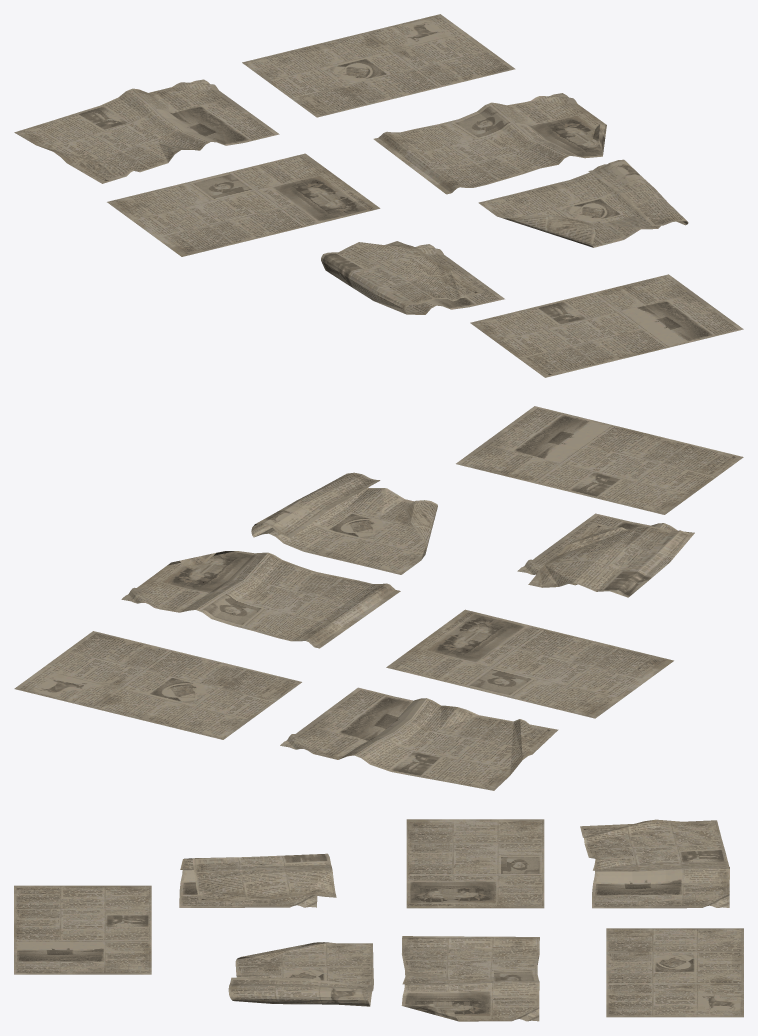
File: newspaper.glb
3 renders of one model, top to bottom at view 1: azimuth 30°, elevation 25°; view 2: azimuth 150°, elevation 25°; view 3: azimuth 270°, elevation 25°, orthographic. The views are drawn at different scales.
Visible parts, largest first — view 1: 1234_SM_Newspaper02_mo, 1234_SM_Newspaper01_mo, 1234_SM_Newspaper03_mo, 1234_SM_Newspaper04_mo, 1234_SM_Newspaper06_mo, 1234_SM_Newspaper05_mo, 1234_SM_Newspaper07_mo; view 2: 1234_SM_Newspaper03_mo, 1234_SM_Newspaper02_mo, 1234_SM_Newspaper01_mo, 1234_SM_Newspaper04_mo, 1234_SM_Newspaper06_mo, 1234_SM_Newspaper05_mo, 1234_SM_Newspaper07_mo; view 3: 1234_SM_Newspaper03_mo, 1234_SM_Newspaper02_mo, 1234_SM_Newspaper01_mo, 1234_SM_Newspaper04_mo, 1234_SM_Newspaper06_mo, 1234_SM_Newspaper05_mo, 1234_SM_Newspaper07_mo.
Boxes of the visible parts, x1,y1,x2,y2 form: 1234_SM_Newspaper02_mo: (242, 14, 515, 117); 1234_SM_Newspaper01_mo: (470, 274, 743, 377); 1234_SM_Newspaper03_mo: (107, 153, 380, 256); 1234_SM_Newspaper04_mo: (14, 79, 279, 183); 1234_SM_Newspaper06_mo: (373, 93, 606, 194); 1234_SM_Newspaper05_mo: (478, 159, 688, 247); 1234_SM_Newspaper07_mo: (321, 241, 504, 314); 1234_SM_Newspaper03_mo: (386, 609, 673, 718); 1234_SM_Newspaper02_mo: (14, 631, 301, 739); 1234_SM_Newspaper01_mo: (456, 406, 743, 514); 1234_SM_Newspaper04_mo: (280, 687, 558, 790); 1234_SM_Newspaper06_mo: (121, 551, 400, 648); 1234_SM_Newspaper05_mo: (251, 472, 437, 574); 1234_SM_Newspaper07_mo: (517, 513, 694, 597); 1234_SM_Newspaper03_mo: (406, 819, 544, 908); 1234_SM_Newspaper02_mo: (606, 928, 743, 1017); 1234_SM_Newspaper01_mo: (14, 885, 151, 974); 1234_SM_Newspaper04_mo: (580, 819, 729, 908); 1234_SM_Newspaper06_mo: (401, 936, 539, 1021); 1234_SM_Newspaper05_mo: (228, 942, 373, 1006); 1234_SM_Newspaper07_mo: (179, 853, 336, 907).
Size of the model in its own units: 2 by 0.0639 by 3.05.
7 materials, 7 textured.
